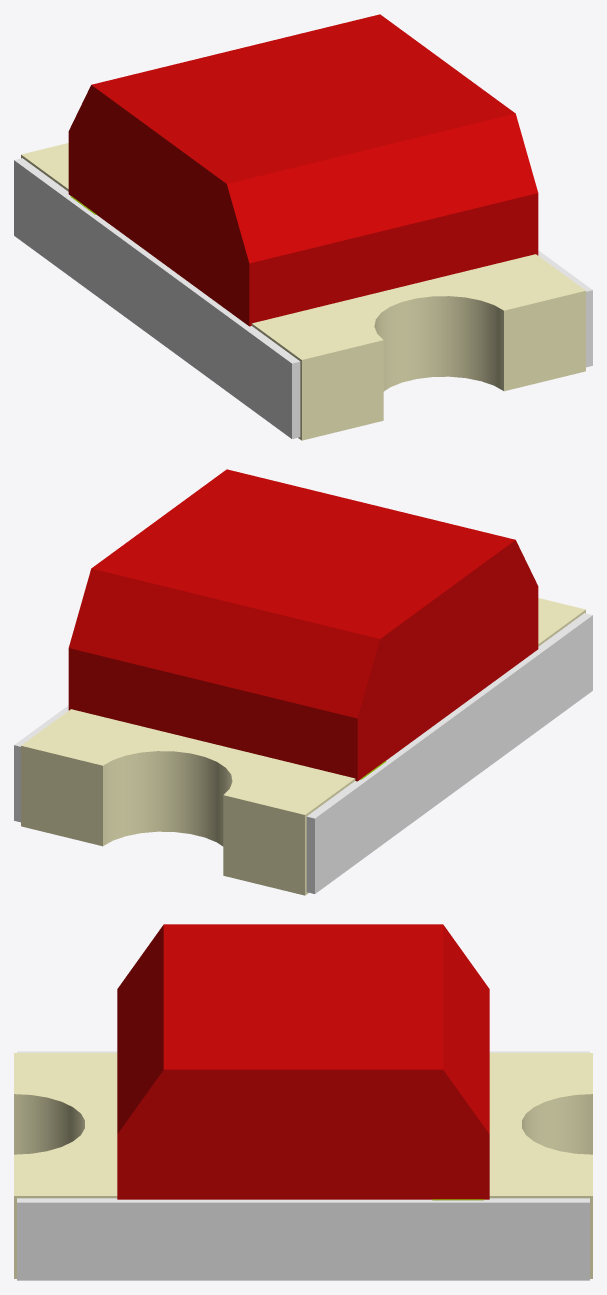
Rendered from LED0805-RED.glb.
3 renders of one model, top to bottom at view 1: azimuth 30°, elevation 25°; view 2: azimuth 150°, elevation 25°; view 3: azimuth 270°, elevation 25°, orthographic. The views are drawn at different scales.
Parts seen in each view (by area): view 1: Glass, Pads, Body; view 2: Glass, Pads, Body; view 3: Glass, Body, Pads.
Part boxes in pixels (x1,y1,x2,y2): Glass: (68, 14, 538, 326); Pads: (21, 143, 585, 440); Body: (14, 158, 592, 438); Glass: (68, 469, 538, 781); Pads: (21, 598, 585, 895); Body: (14, 613, 592, 893); Glass: (117, 924, 489, 1199); Body: (17, 1051, 589, 1280); Pads: (14, 1053, 592, 1278).
Bounding box in the file's own units: 0.00125 × 0.00081 × 0.00202.
